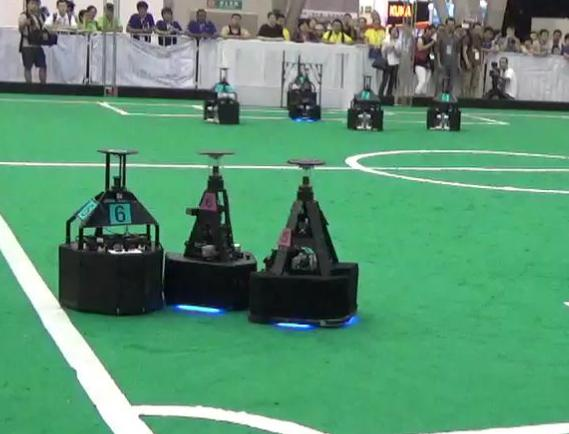robot: (55, 142, 169, 317), (253, 155, 362, 330), (162, 146, 260, 311)
